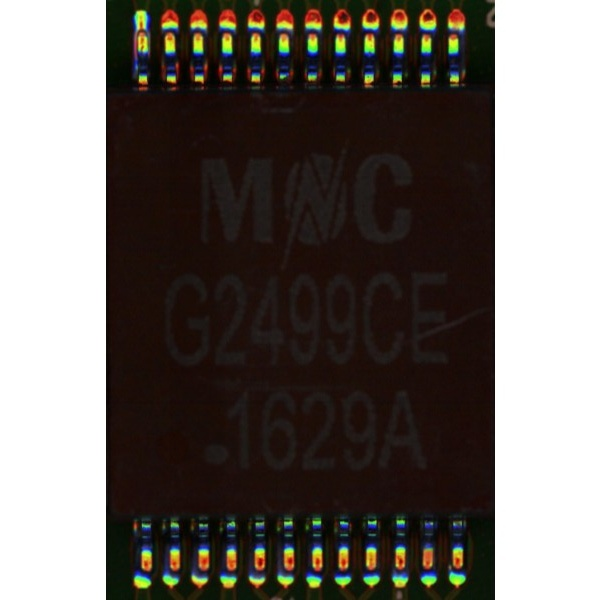Bad_podu: (136, 20, 145, 36)
Bad_qiaojiao: (132, 33, 137, 75)
